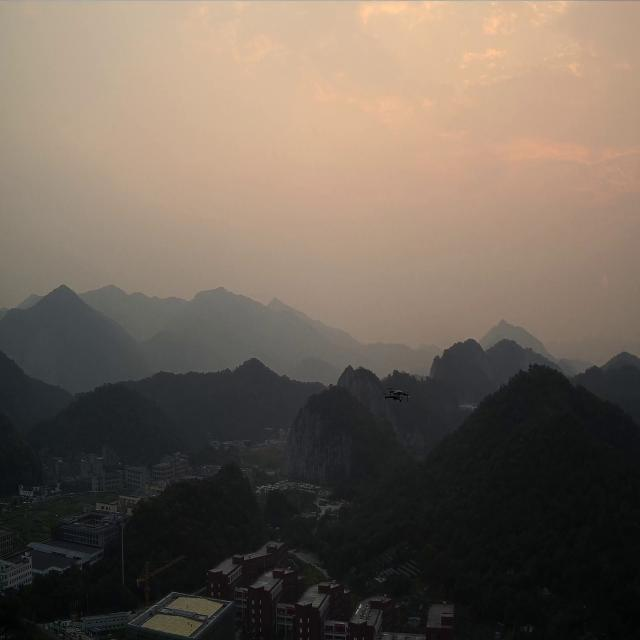UAV: (382, 388, 409, 402)
